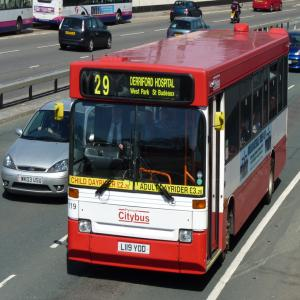Vehicle-registration-plate: (119, 244, 151, 254), (20, 176, 43, 185), (66, 32, 76, 36), (232, 15, 236, 20), (289, 62, 293, 67), (175, 35, 184, 37)
